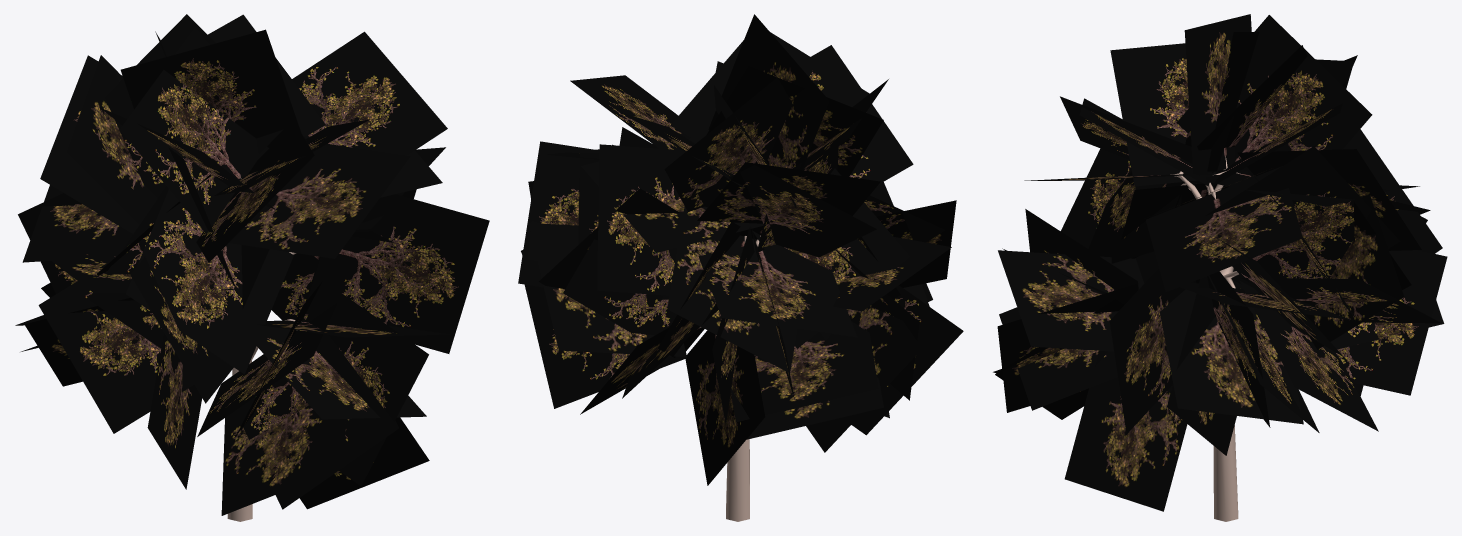
File: tree32.glb
The picture shows the model from 3 angles, left to right: view 1: azimuth 30°, elevation 25°; view 2: azimuth 150°, elevation 25°; view 3: azimuth 270°, elevation 25°; orthographic projection. The views are drawn at different scales.
Size of the model in its own units: 6.24 by 7.3 by 6.17.
2 materials, 1 textured.
